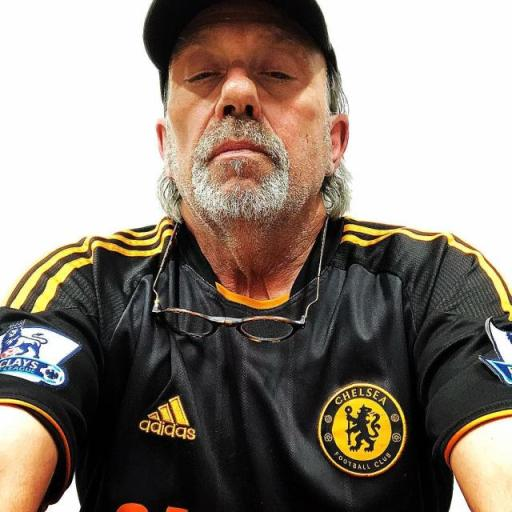Adidas: (136, 392, 198, 442)
